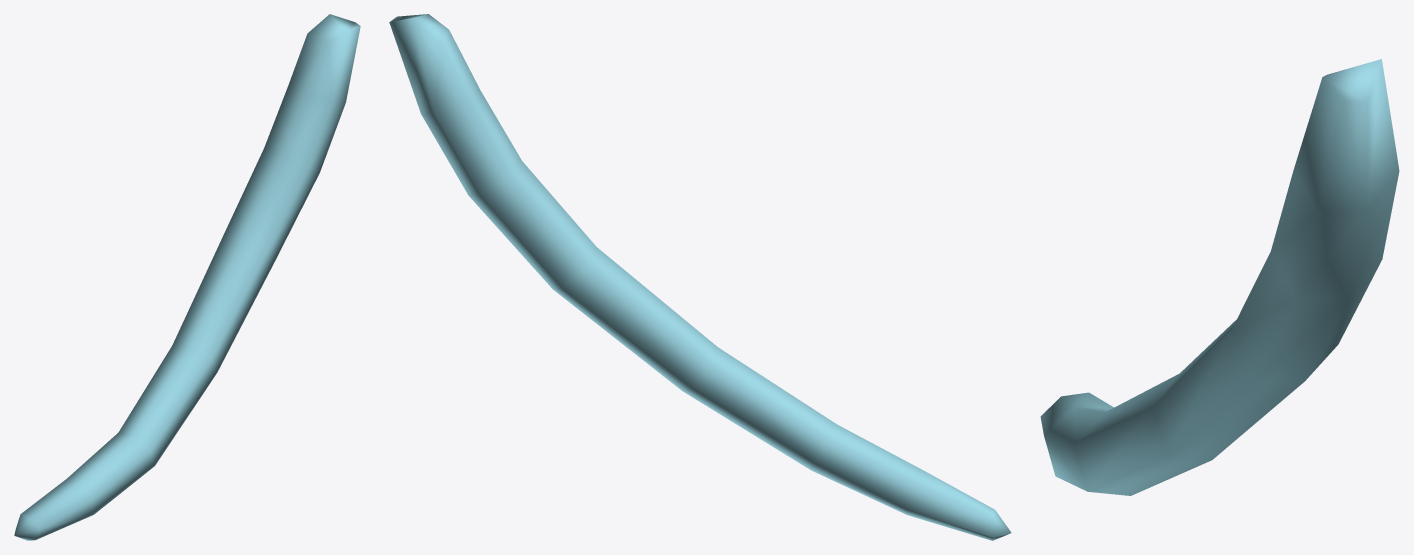
3 views of the same model, side by side, from view 1: azimuth 30°, elevation 25°; view 2: azimuth 150°, elevation 25°; view 3: azimuth 270°, elevation 25° (orthographic). The views are drawn at different scales.
Visible parts, largest first — view 1: CC L2; view 2: CC L2; view 3: CC L2.
Part boxes in pixels (left/top/right/bottom): CC L2: left=14, top=14, right=360, bottom=540; CC L2: left=389, top=14, right=1011, bottom=540; CC L2: left=1040, top=59, right=1399, bottom=495.
Size of the model in its own units: 1.47 by 1.27 by 0.5475.
